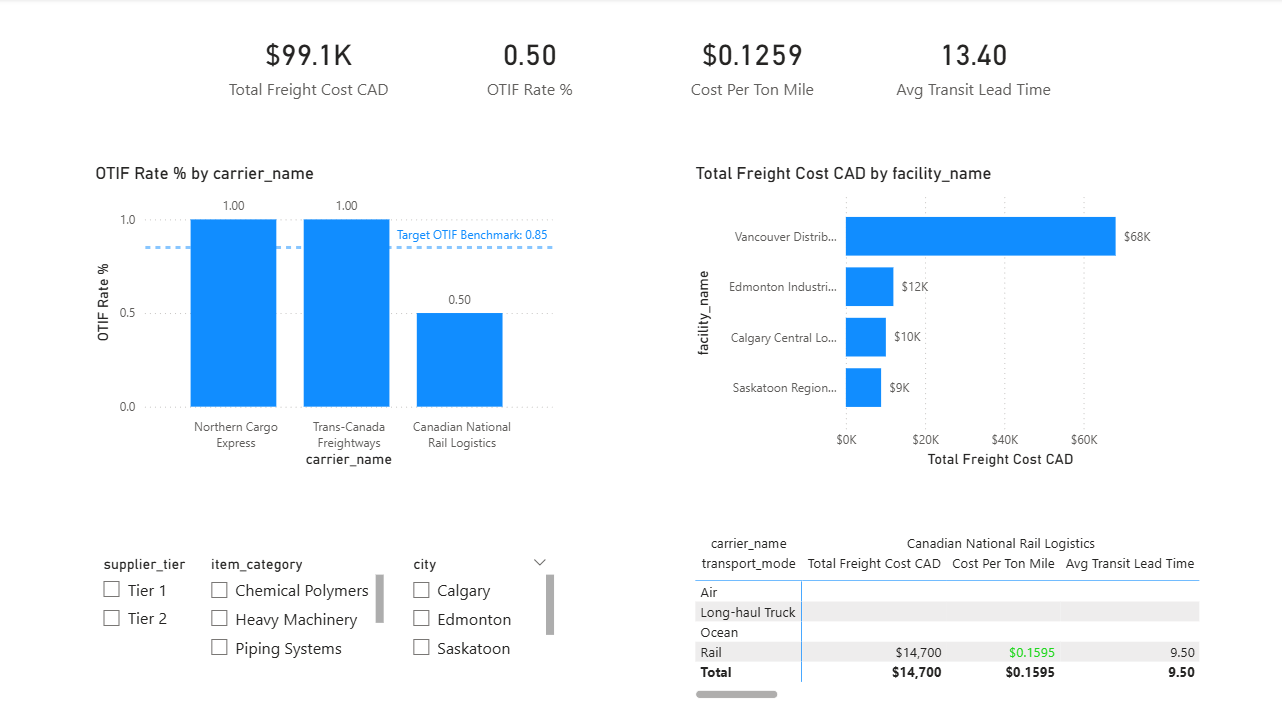

What the dashboard file says about the page in this screenshot:
{"tool":"powerbi","page":{"name":"Page 1","canvas":[1280,720],"ordinal":0},"visuals":[{"type":"card","fields":{"Values":["_Measures.Total Freight Cost CAD"]},"box":[199,0,220.6,131.7],"z":0,"group":"g1"},{"type":"clusteredColumnChart","fields":{"Category":["dim_carriers.carrier_name"],"Y":["_Measures.OTIF Rate %"]},"box":[92.5,163.8,465,307.5],"z":0},{"type":"group","id":"g1","title":"Group 1","box":[199,0,882.3,131.7],"z":1000},{"type":"card","fields":{"Values":["_Measures.OTIF Rate %"]},"box":[419.6,0,220.6,131.7],"z":1000,"group":"g1"},{"type":"card","fields":{"Values":["_Measures.Cost Per Ton Mile"]},"box":[640.2,0,220.6,131.7],"z":2000,"group":"g1"},{"type":"pivotTable","fields":{"Rows":["dim_carriers.transport_mode"],"Columns":["dim_carriers.carrier_name"],"Values":["_Measures.Total Freight Cost CAD","_Measures.Cost Per Ton Mile","_Measures.Avg Transit Lead Time"]},"box":[688.8,526.2,511.2,176.2],"z":2000},{"type":"card","fields":{"Values":["_Measures.Avg Transit Lead Time"]},"box":[860.8,0,220.6,131.7],"z":3000,"group":"g1"},{"type":"clusteredBarChart","fields":{"Category":["dim_destinations.facility_name"],"Y":["_Measures.Total Freight Cost CAD"]},"box":[688.8,163.8,481.2,307.5],"z":3000},{"type":"slicer","fields":{"Values":["dim_suppliers.supplier_tier"]},"box":[92.5,550,136.2,88.8],"z":4000},{"type":"slicer","fields":{"Values":["fact_purchase_orders.item_category"]},"box":[198.8,550,190,112.5],"z":5000},{"type":"slicer","fields":{"Values":["dim_destinations.city"]},"box":[400,550,157.5,112.5],"z":6000}]}

Visuals, with their boxes in screenshot pixels (x1, y1, x2, y2), scaled from the page's 1280x720 canvas onto the 1282x718 screenshot:
card - _Measures.Total Freight Cost CAD: {"x1": 199, "y1": 0, "x2": 420, "y2": 131}
clusteredColumnChart - dim_carriers.carrier_name x _Measures.OTIF Rate %: {"x1": 93, "y1": 163, "x2": 558, "y2": 470}
"Group 1" group: {"x1": 199, "y1": 0, "x2": 1083, "y2": 131}
card - _Measures.OTIF Rate %: {"x1": 420, "y1": 0, "x2": 641, "y2": 131}
card - _Measures.Cost Per Ton Mile: {"x1": 641, "y1": 0, "x2": 862, "y2": 131}
pivotTable - dim_carriers.transport_mode x dim_carriers.carrier_name: {"x1": 690, "y1": 525, "x2": 1202, "y2": 700}
card - _Measures.Avg Transit Lead Time: {"x1": 862, "y1": 0, "x2": 1083, "y2": 131}
clusteredBarChart - dim_destinations.facility_name x _Measures.Total Freight Cost CAD: {"x1": 690, "y1": 163, "x2": 1172, "y2": 470}
slicer - dim_suppliers.supplier_tier: {"x1": 93, "y1": 548, "x2": 229, "y2": 637}
slicer - fact_purchase_orders.item_category: {"x1": 199, "y1": 548, "x2": 389, "y2": 661}
slicer - dim_destinations.city: {"x1": 401, "y1": 548, "x2": 558, "y2": 661}
